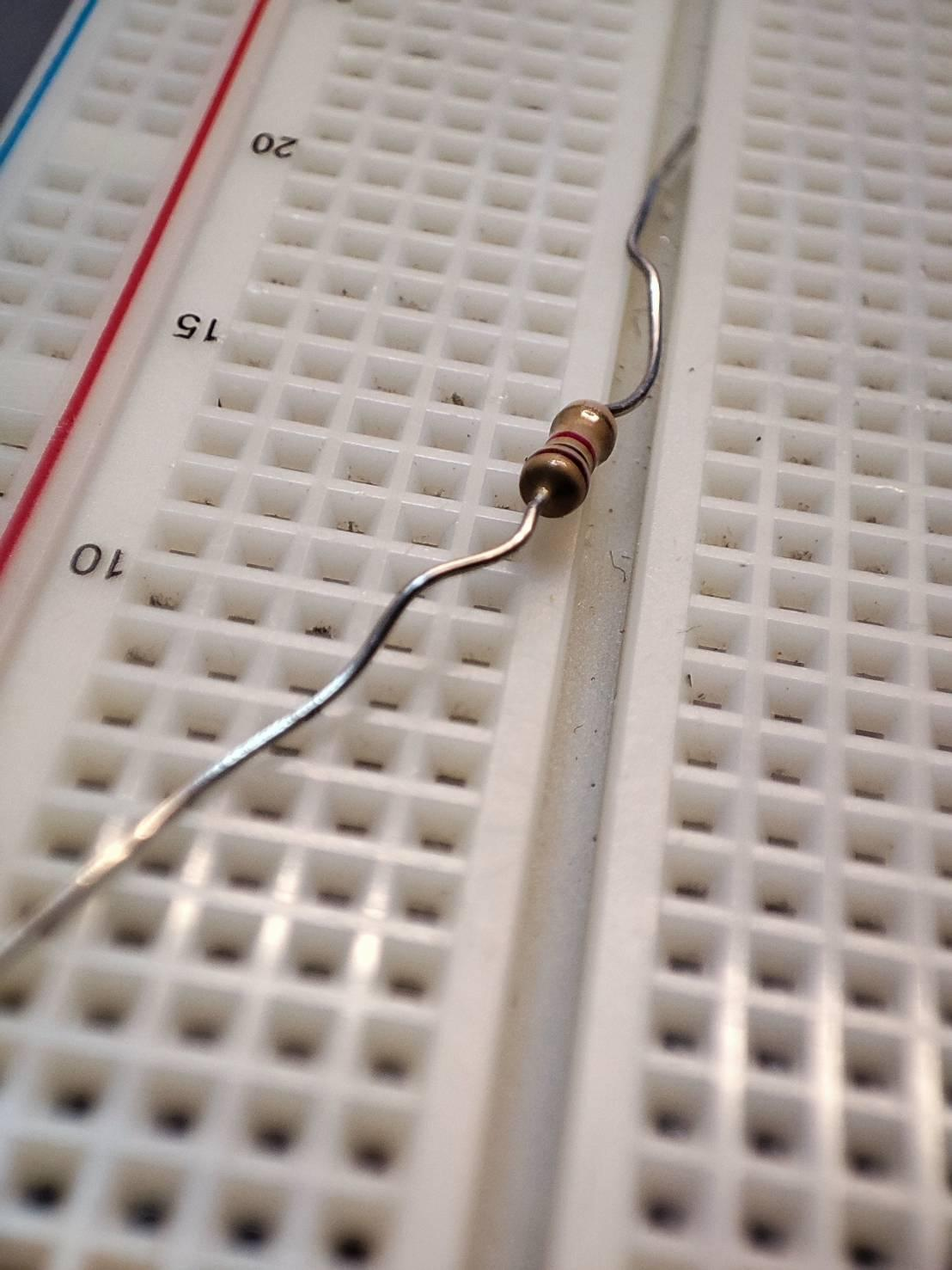resistor: (528, 396, 617, 519)
